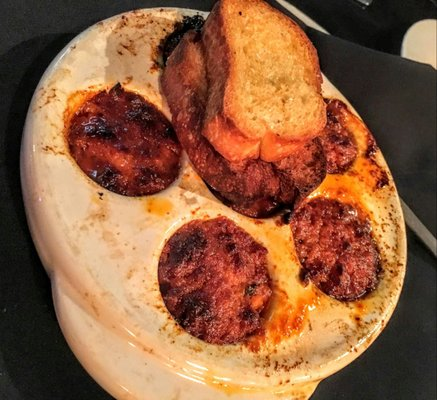sandwich: (17, 2, 429, 391)
